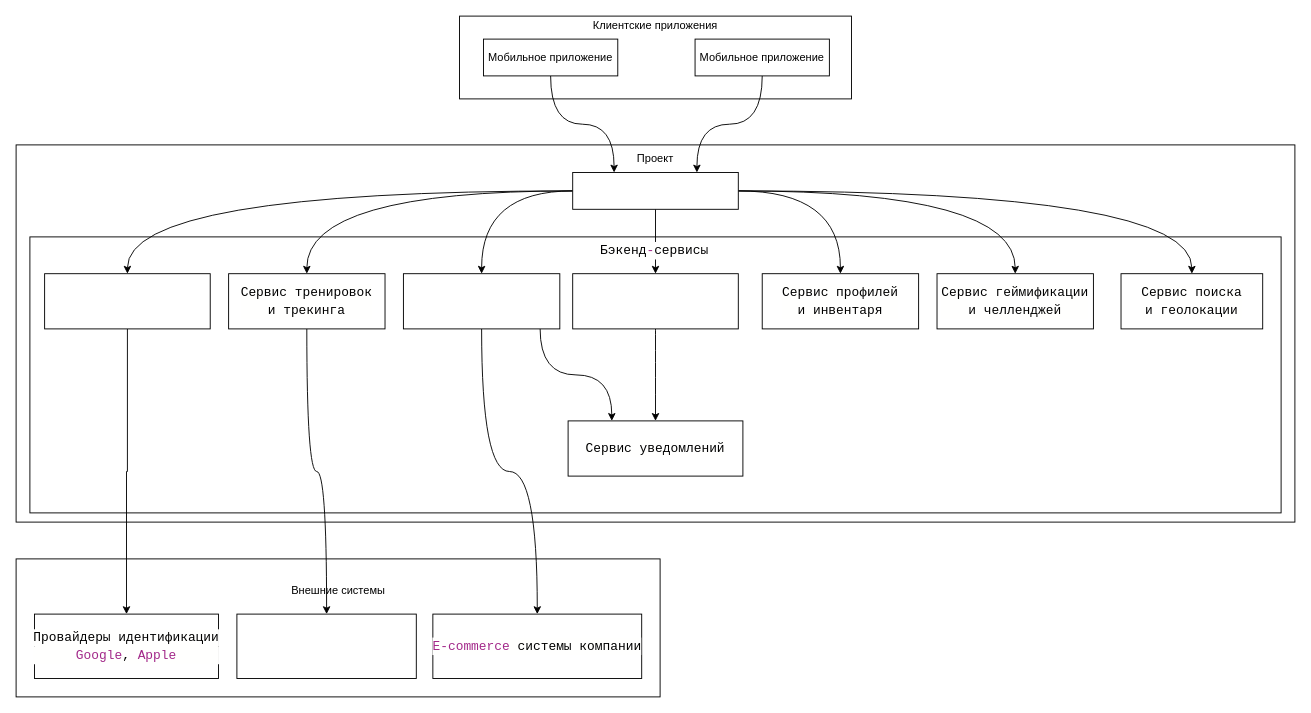
Some shapes in this 1311 by 713 pixel diagram are drawn without their labels. The centre of each missing label's shape, as x and y in pixels:
API Gateway / Edge Router: (655,190)
Внешние устройства Garmin , Apple Watch: (326,645)
Сервис аутентификации и авторизации: (127,301)
Сервис контента и промо - кампаний: (655,301)
Сервис рекомендаций: (481,301)
